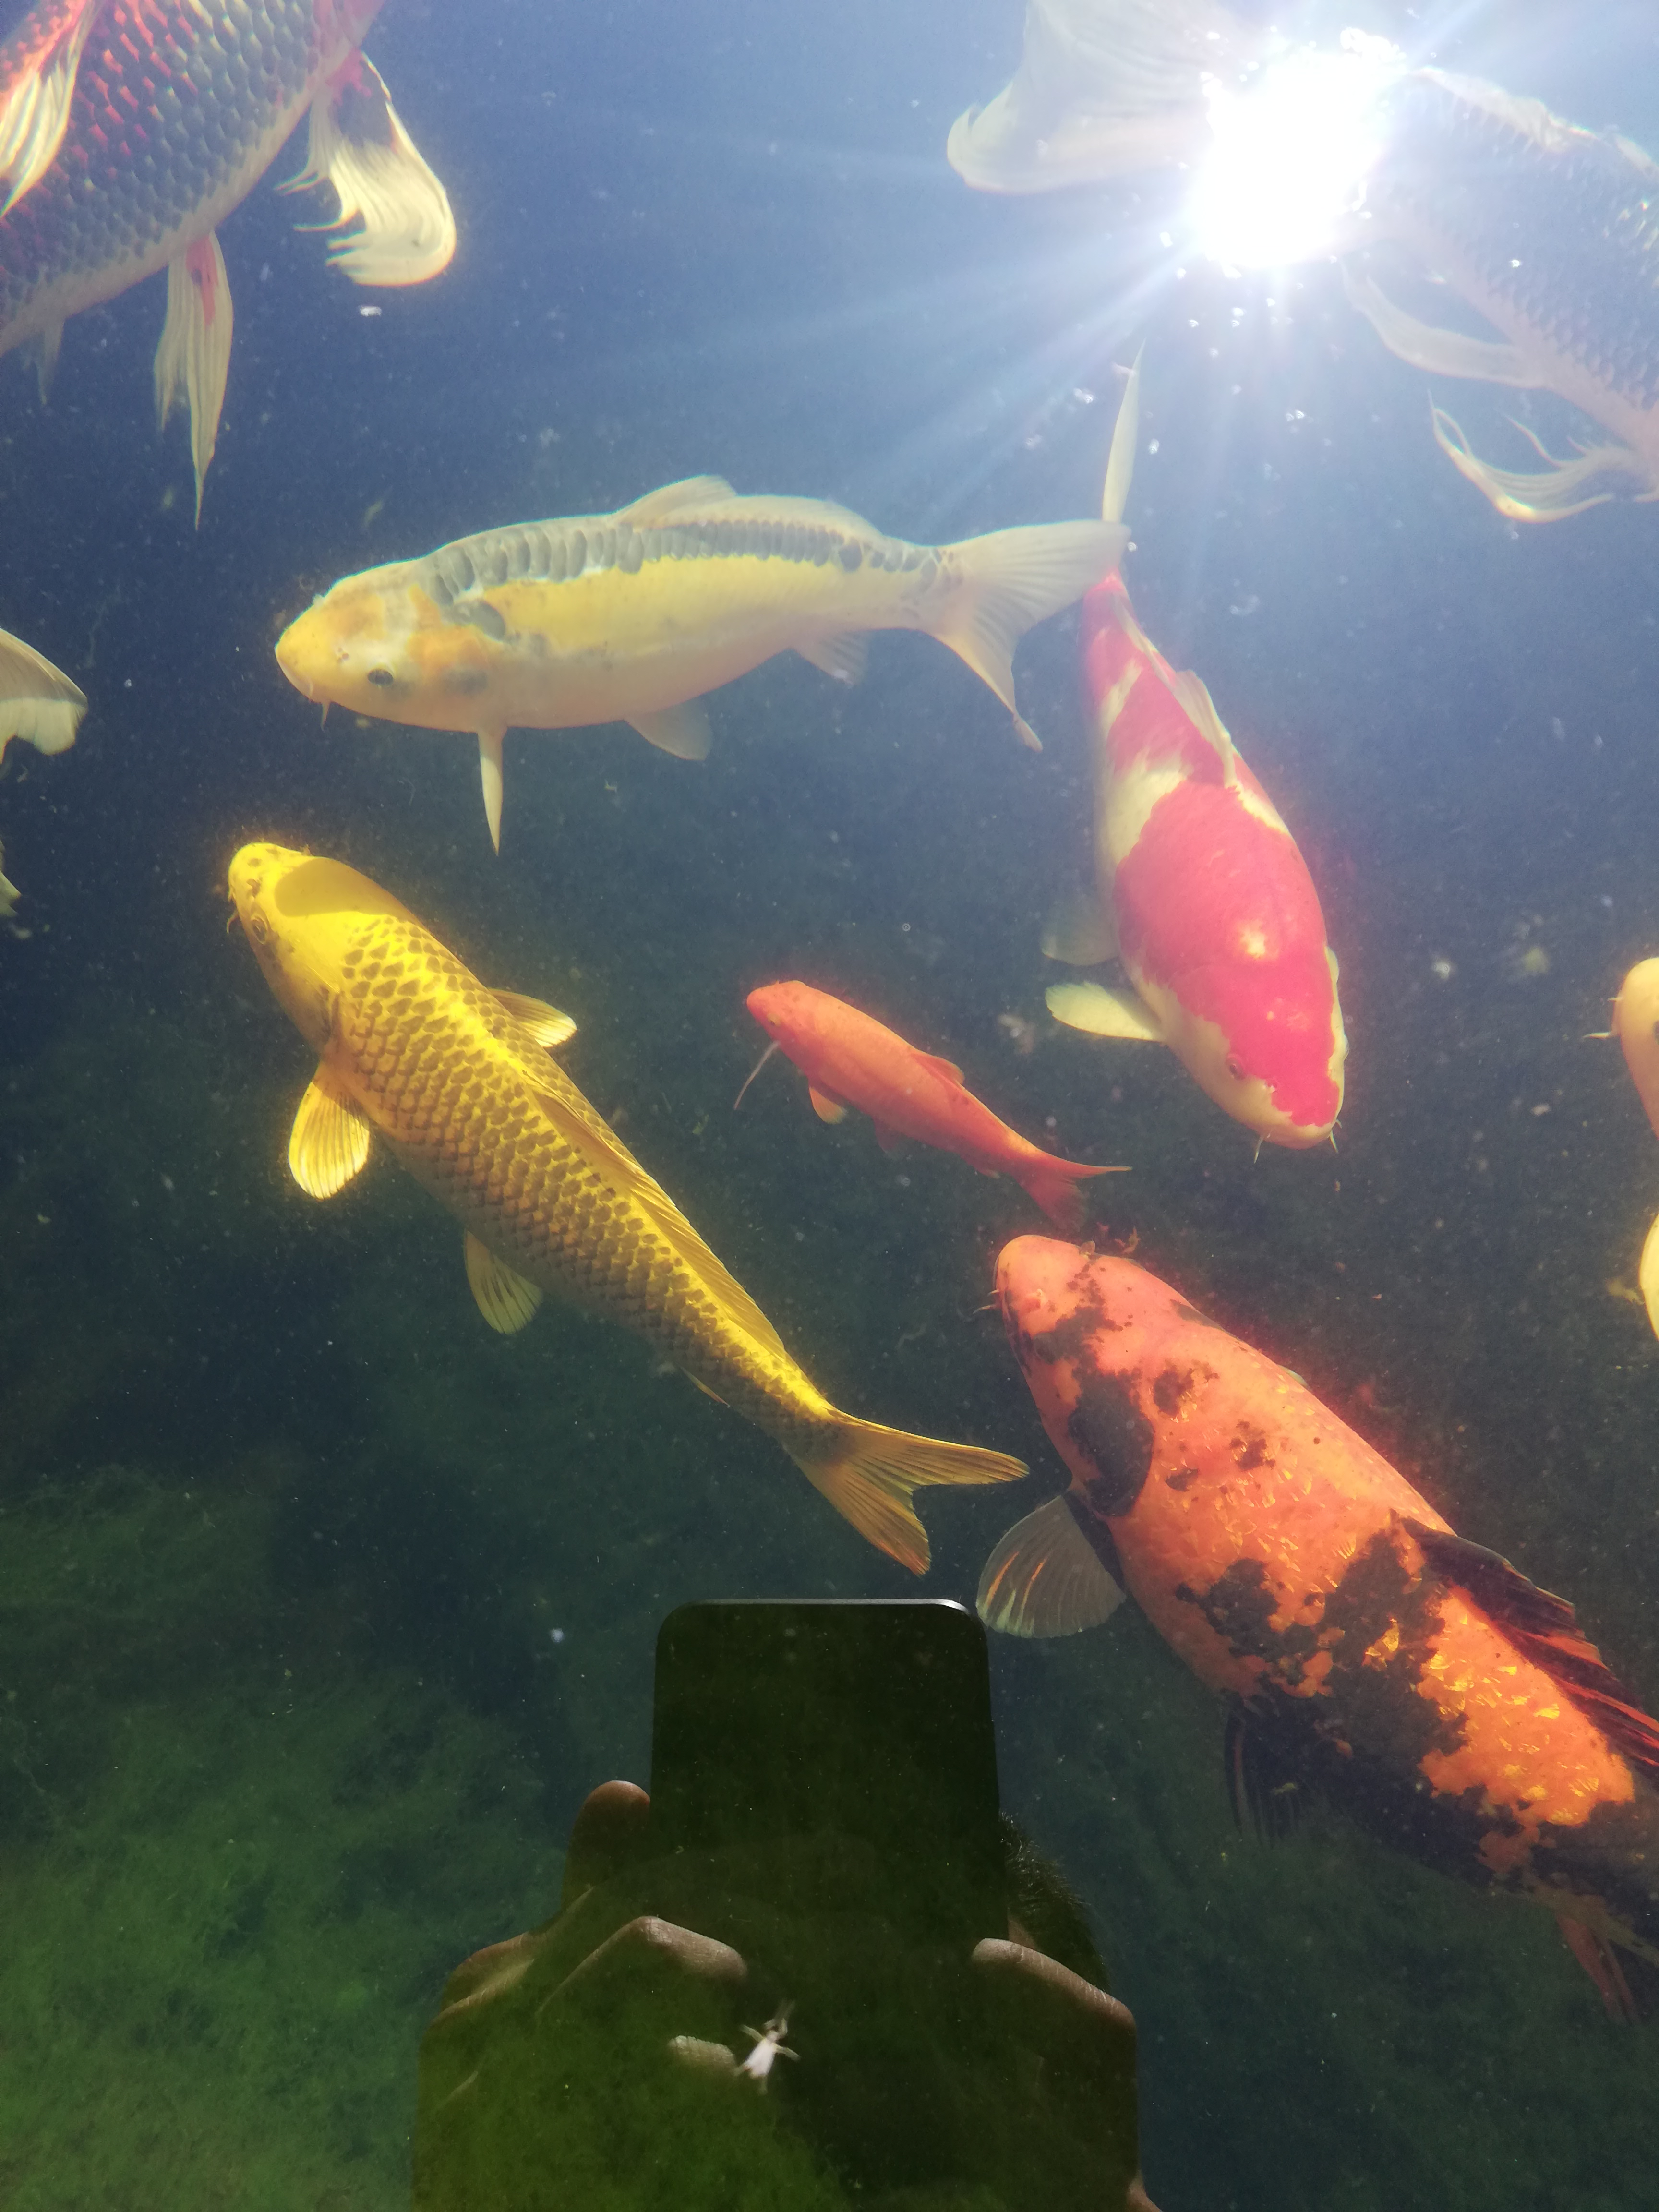Goldie: (167, 799, 979, 1615)
